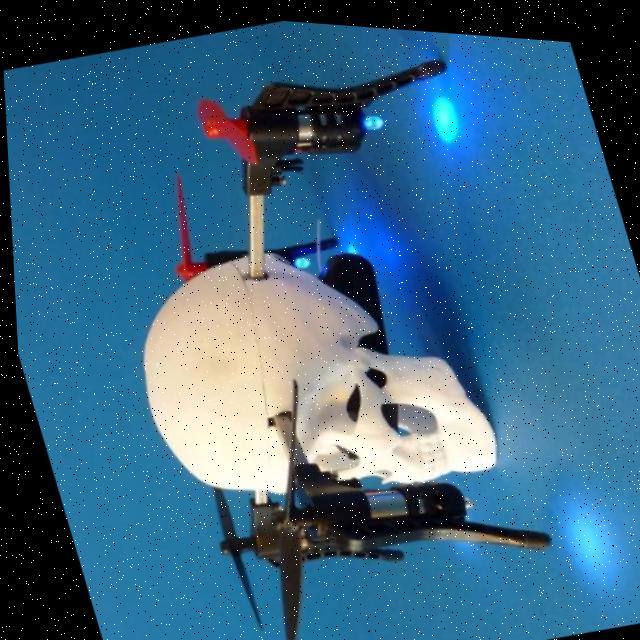drones: (14, 1, 640, 640)
